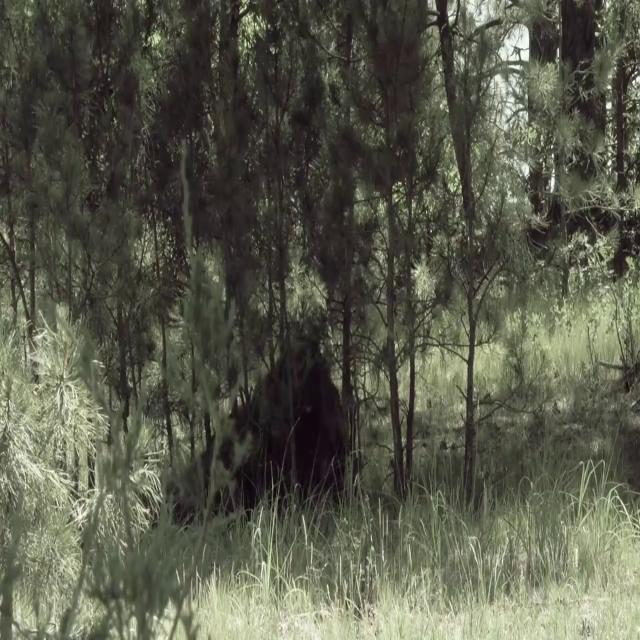Camouflage: (203, 325, 363, 496)
